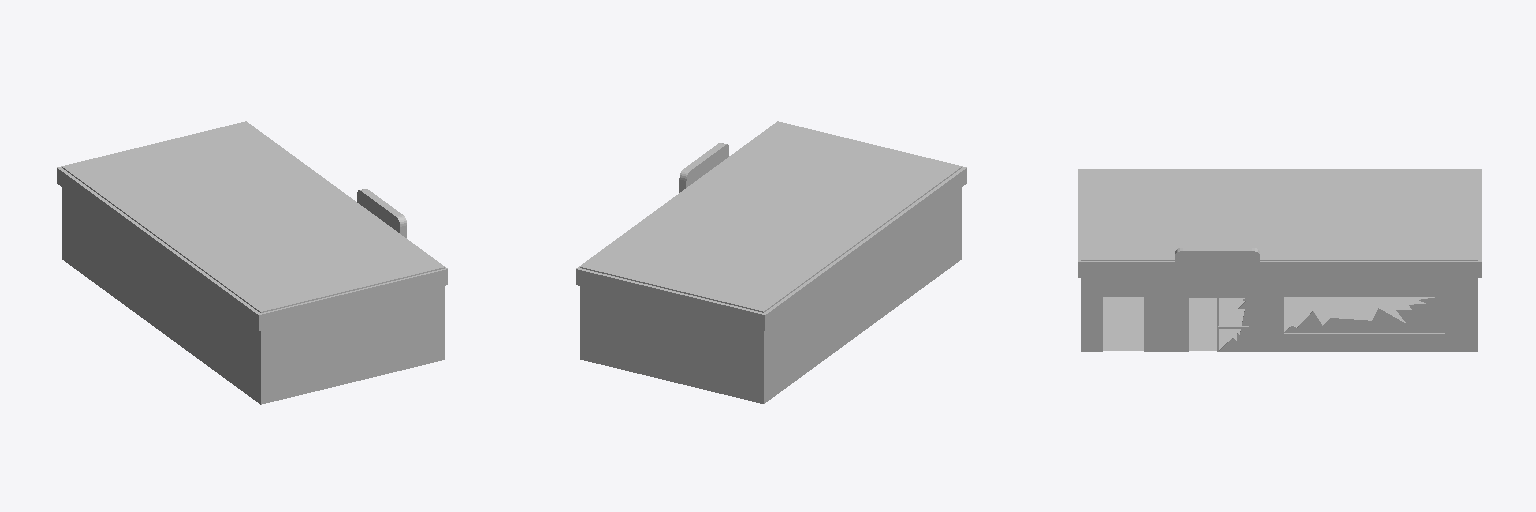
Rendered from Tienda.obj.
The picture shows the model from 3 angles: view 1: azimuth 30°, elevation 25°; view 2: azimuth 150°, elevation 25°; view 3: azimuth 270°, elevation 25°; orthographic projection.
Parts seen in each view (by area): view 1: Tienda_Oxxo, Letrero_Oxxo; view 2: Tienda_Oxxo, Letrero_Oxxo; view 3: Tienda_Oxxo, Plano, Letrero_Oxxo, Puerta.
Part boxes in pixels (x1,y1,x2,y2): Tienda_Oxxo: (57,121,447,404); Letrero_Oxxo: (357,189,406,237); Tienda_Oxxo: (576,121,966,403); Letrero_Oxxo: (679,143,728,192); Tienda_Oxxo: (1078,169,1481,351); Plano: (1103,297,1433,350); Letrero_Oxxo: (1175,248,1259,289); Puerta: (1187,297,1248,351).
Bounding box in the file's own units: 11.1 × 5.69 × 19.73.